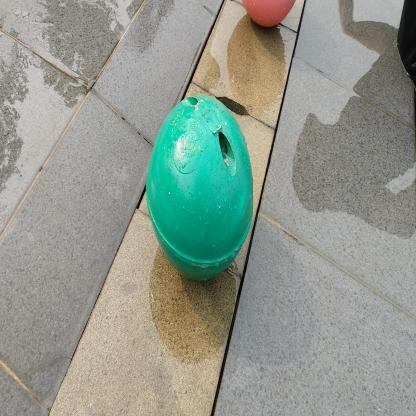green_buoy: (138, 81, 260, 299)
